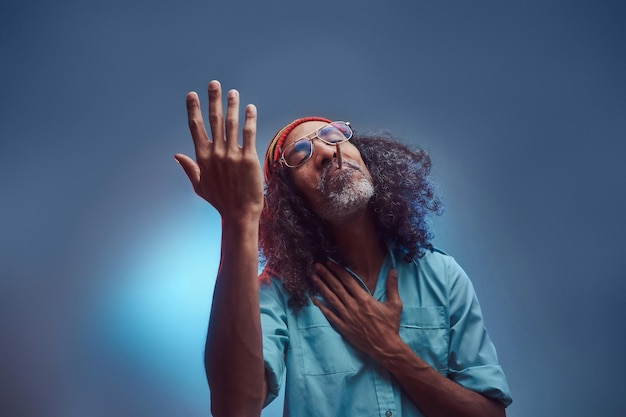cigarette: (334, 138, 344, 168)
